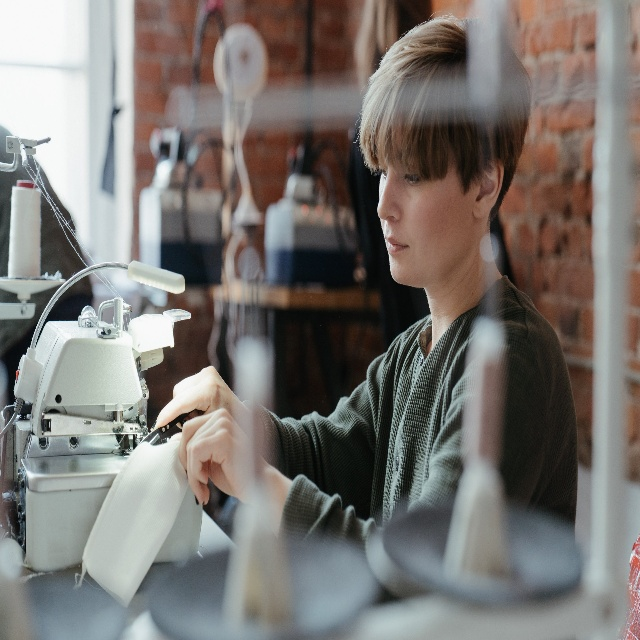Sin_guantes: (169, 406, 261, 506), (150, 365, 246, 430)
